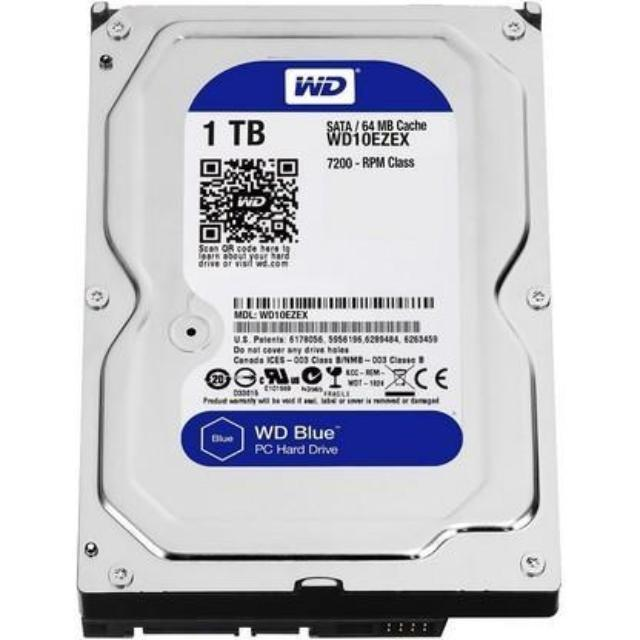DISK: (72, 2, 563, 640)
